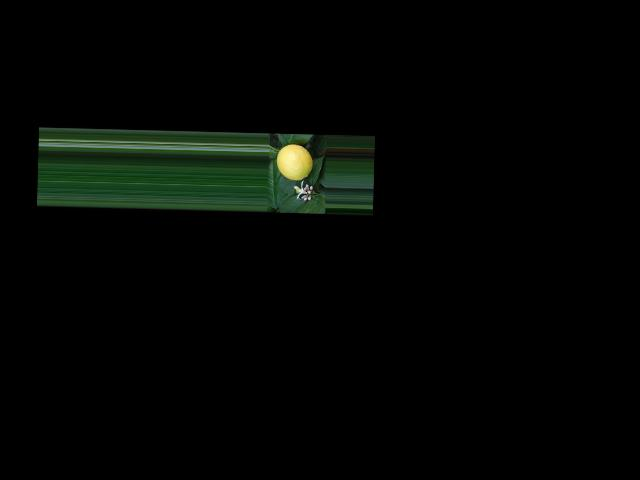lemon: (274, 141, 312, 181)
